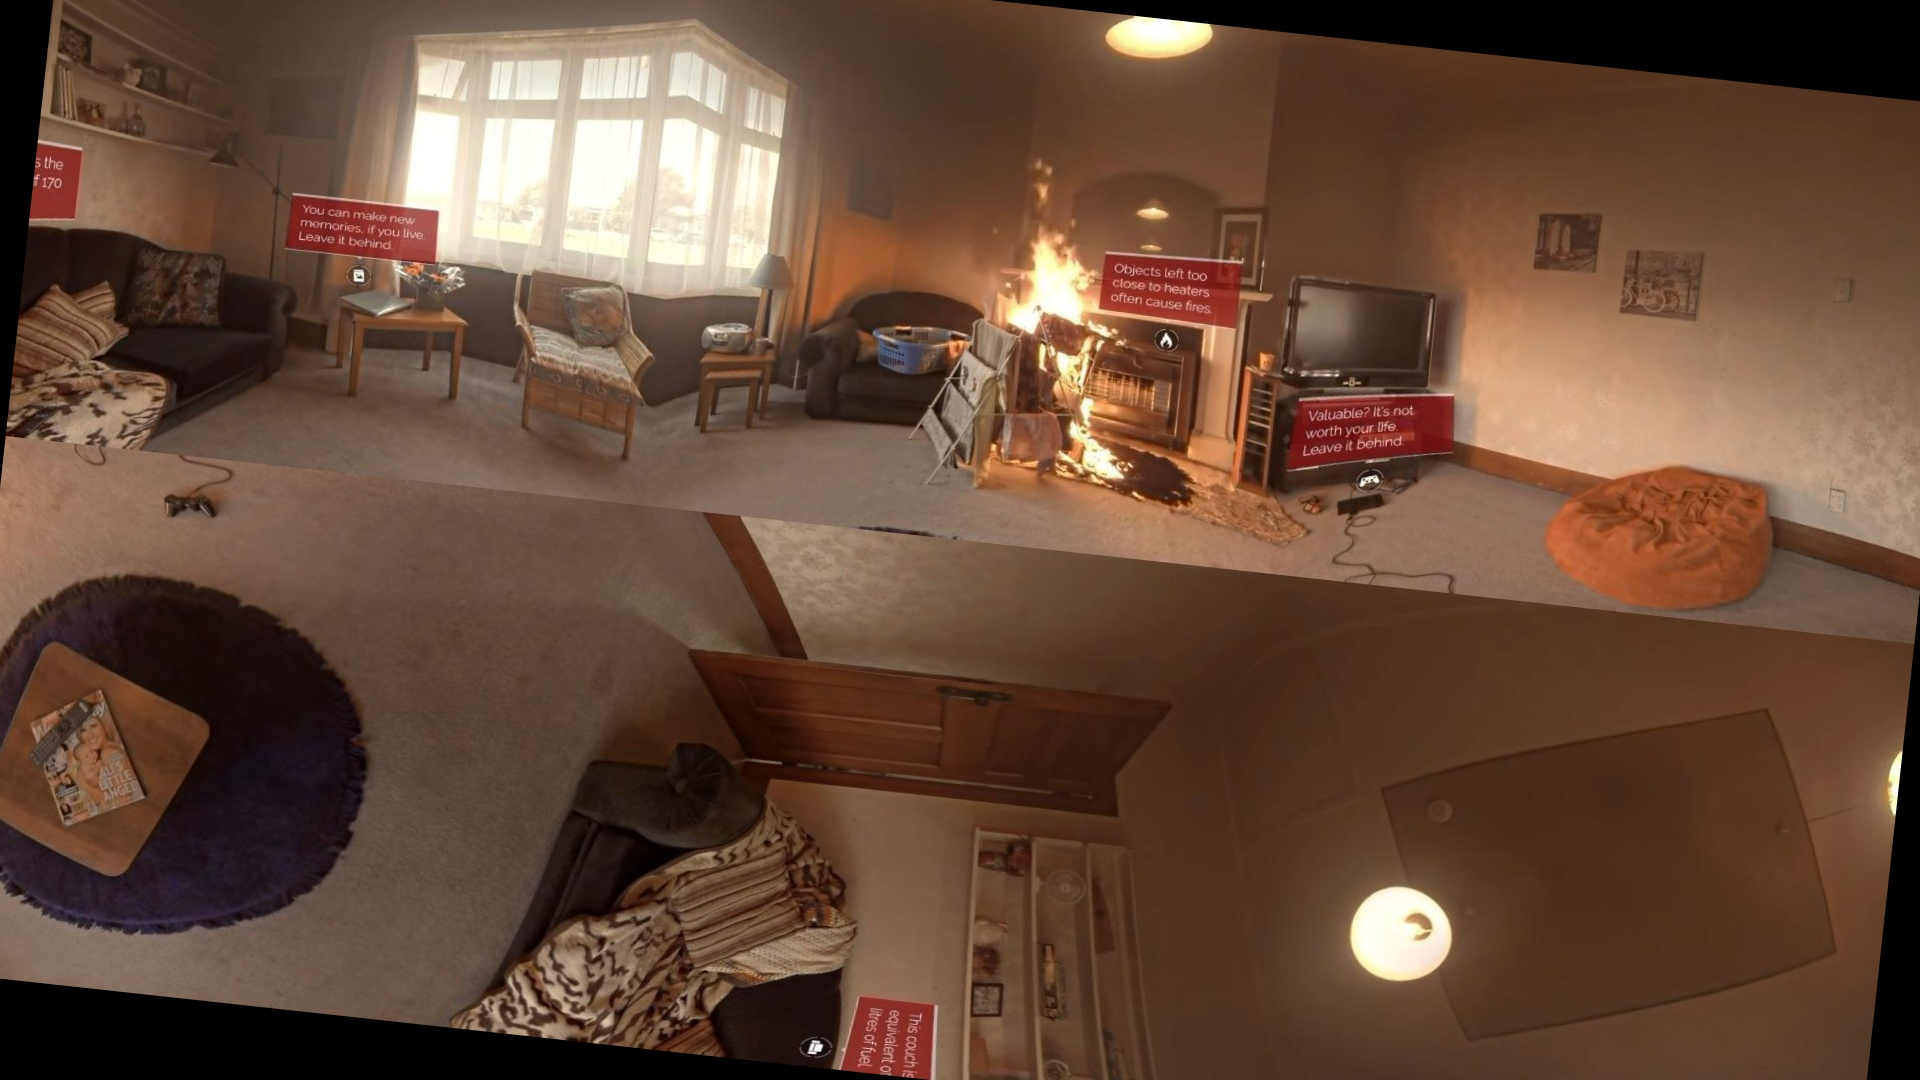fire: (948, 186, 1135, 480)
